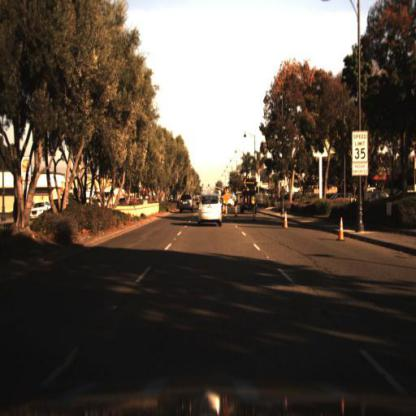car: (197, 193, 226, 224), (242, 178, 259, 214), (329, 188, 358, 209), (364, 187, 391, 207), (179, 193, 195, 212)
pedestrian: (252, 192, 259, 215)
trafficLight-RedLeft: (244, 178, 258, 191)
